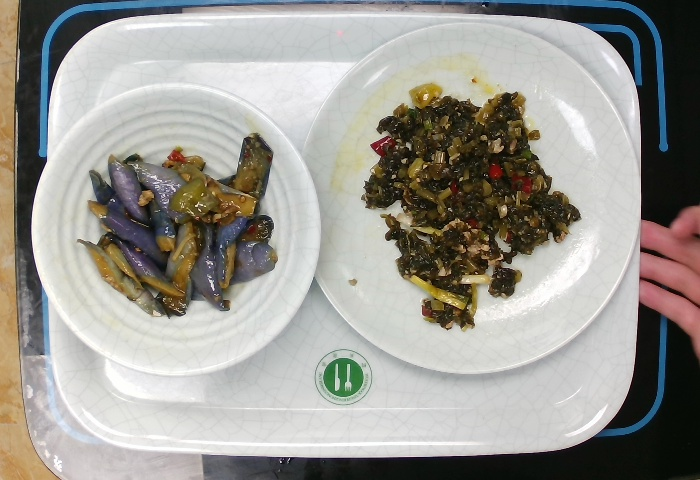JYsf-Da_Yuan_Pan: (299, 21, 644, 376)
JYsf-Xiao_Tang_Wan: (28, 79, 322, 378)
